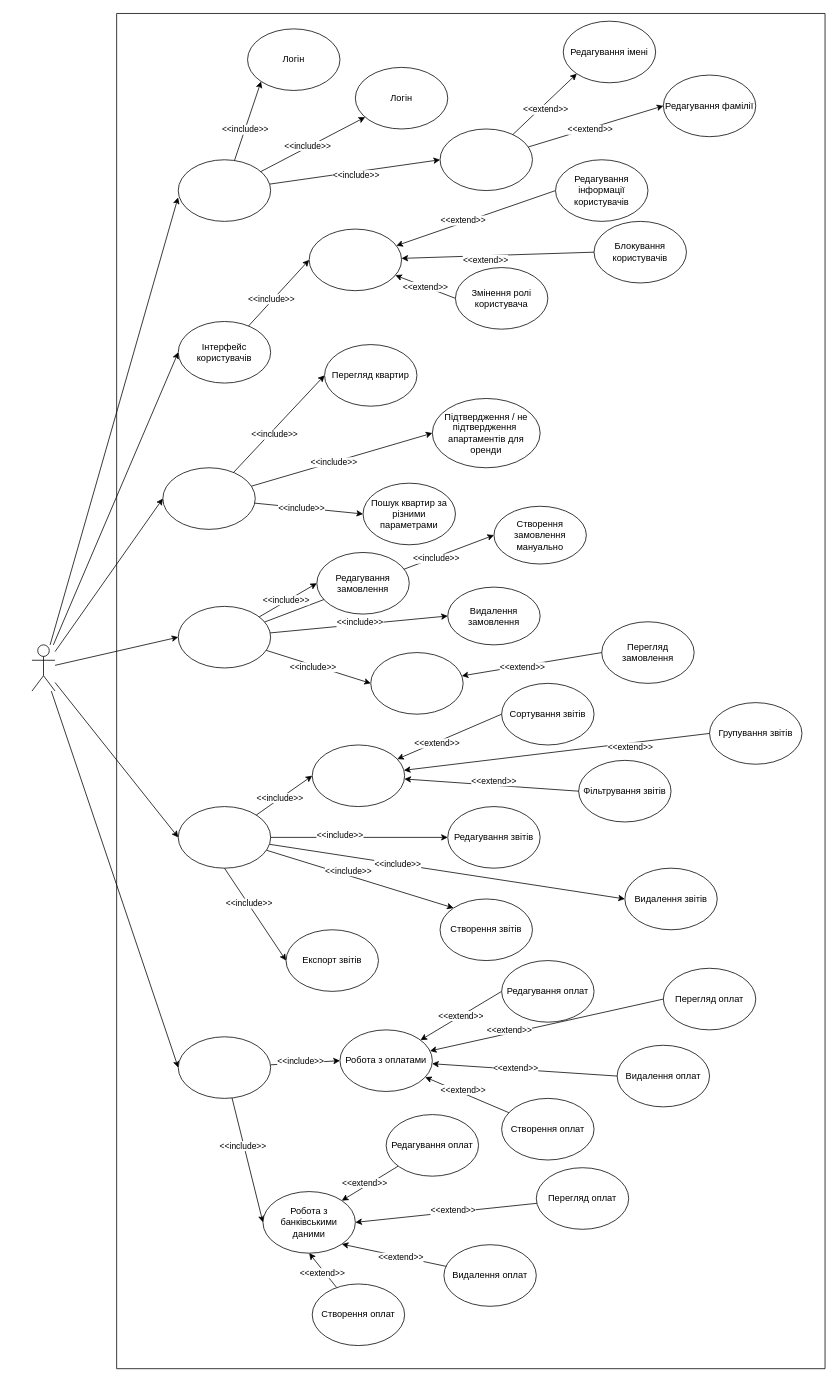
This 839x1382 diagram has some shape labels left out. Each missing label, with the centre of its shape:
Адміністратор: point (43, 667)
Модерація користувачів: point (355, 259)
Перегляд замовлень: point (416, 683)
Перегляд звітів всіх користувачів: point (358, 775)
Редагування персональної інформації: point (485, 159)
Інтерфейс апартаментів: point (208, 498)
Інтерфейс бухгалтерії: point (224, 1067)
Інтерфейс електронного обліку: point (224, 837)
Інтерфейс замовлень: point (224, 637)
Інтерфейс користувача: point (224, 190)
